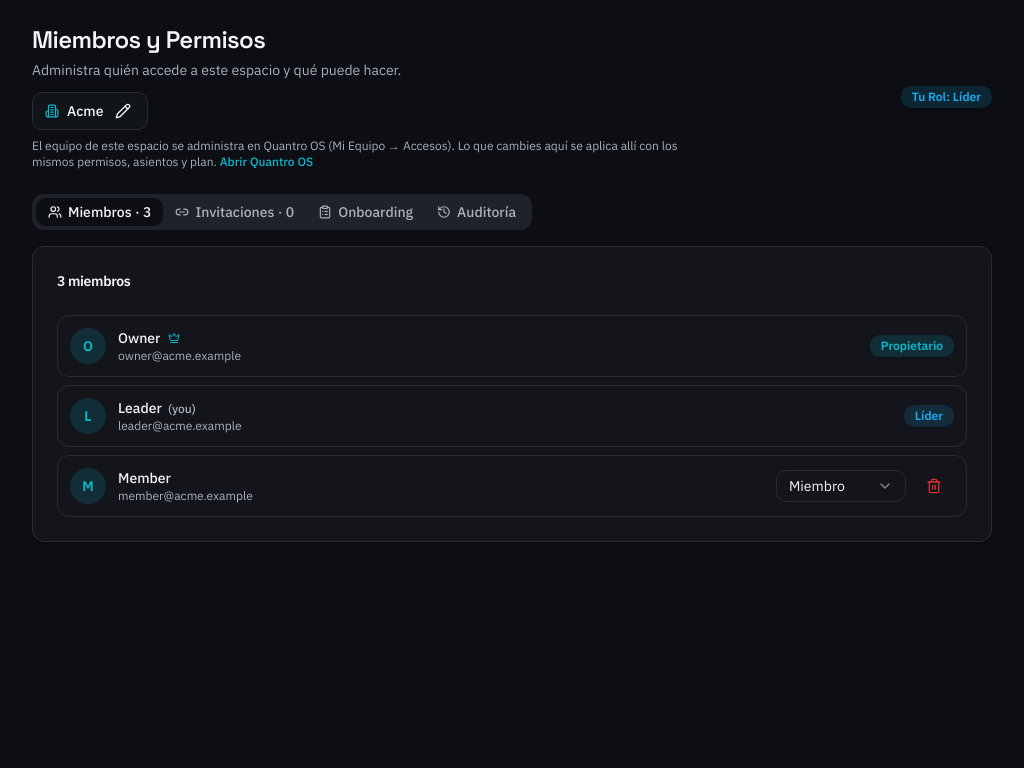
revokes access by default and deletes only when asked
Later steps or results of the test are not shown.
Click the 2nd button at (934, 486), box [914,470,954,502]
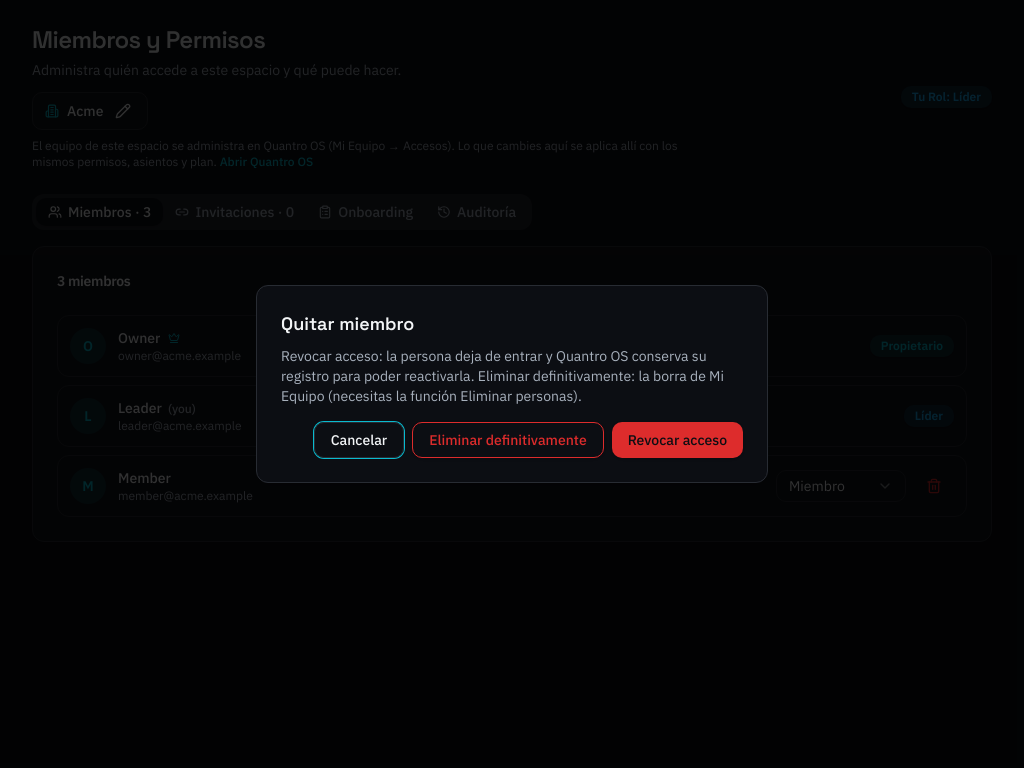
Now the text "Revocar acceso: la persona deja de entrar y Quantro OS conserva su registro para poder reactivarla. Eliminar definitivamente: la borra de Mi Equipo (necesitas l" is shown, box [281,347,724,405]
